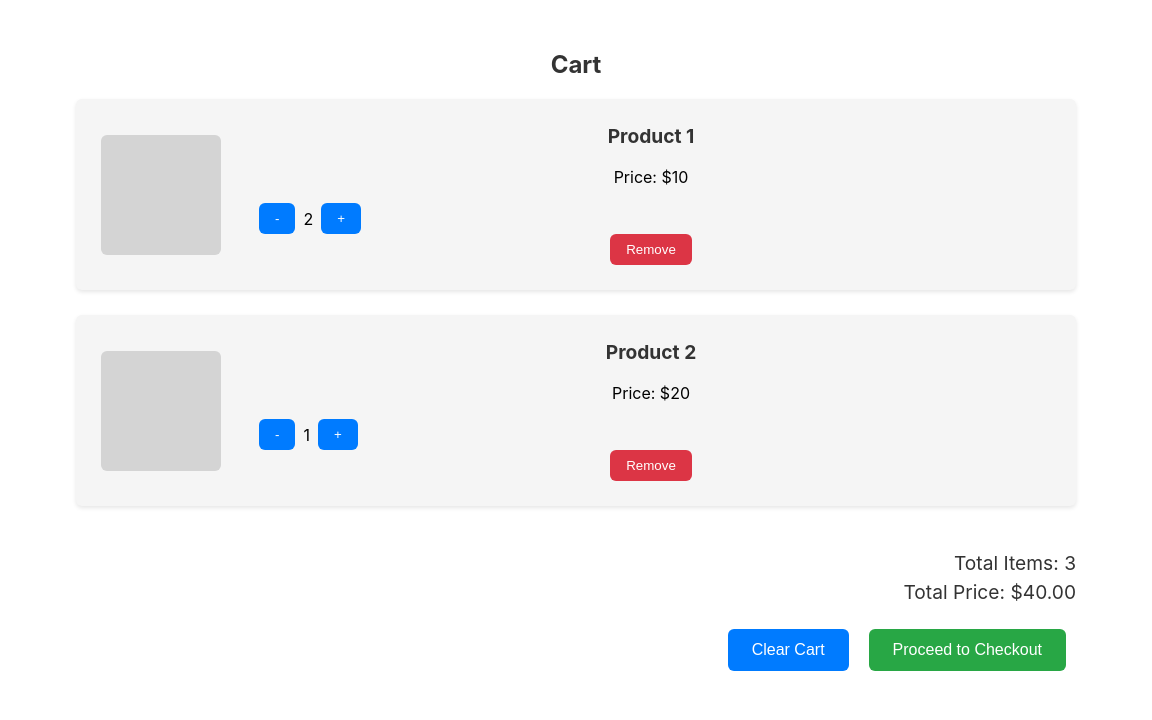
Test: Cart component › clears the entire cart
Step 1. Click the button "Clear Cart" → (788, 650), box [728, 629, 849, 671]
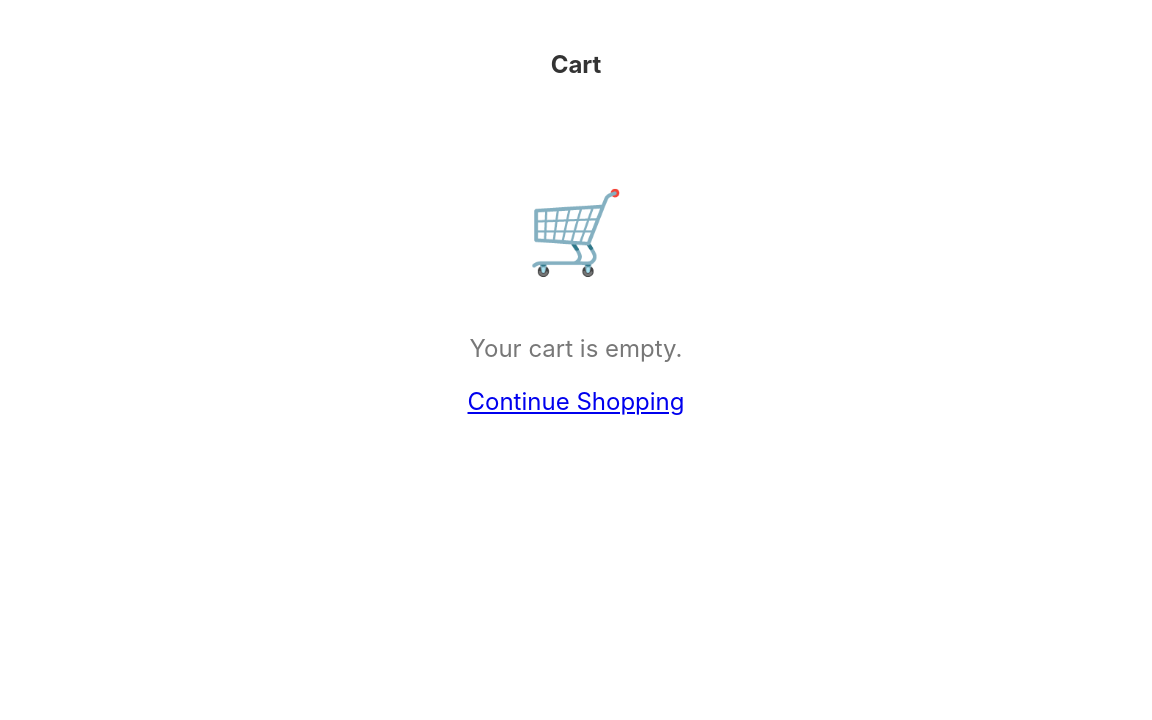
Result: the text "Your cart is empty." is shown at [470, 334, 682, 363]
